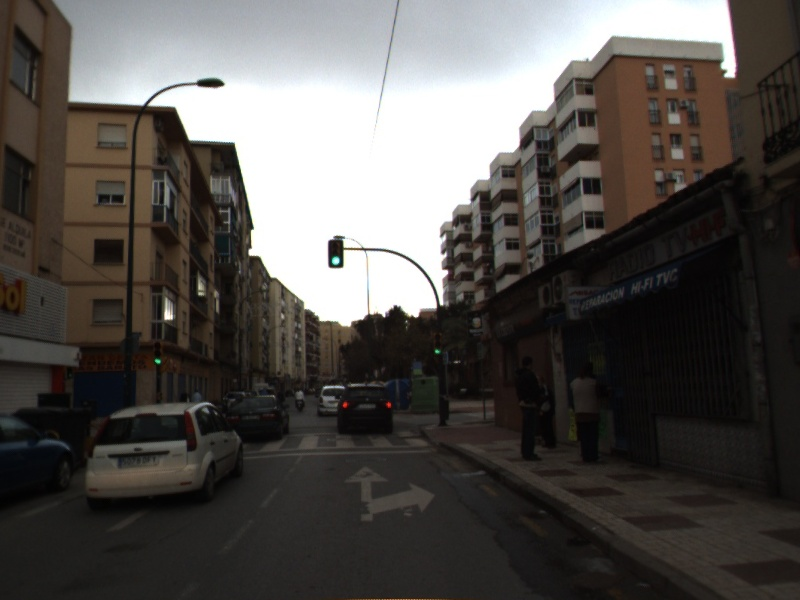STRAIGHT_RIGHT: (341, 464, 438, 523)
